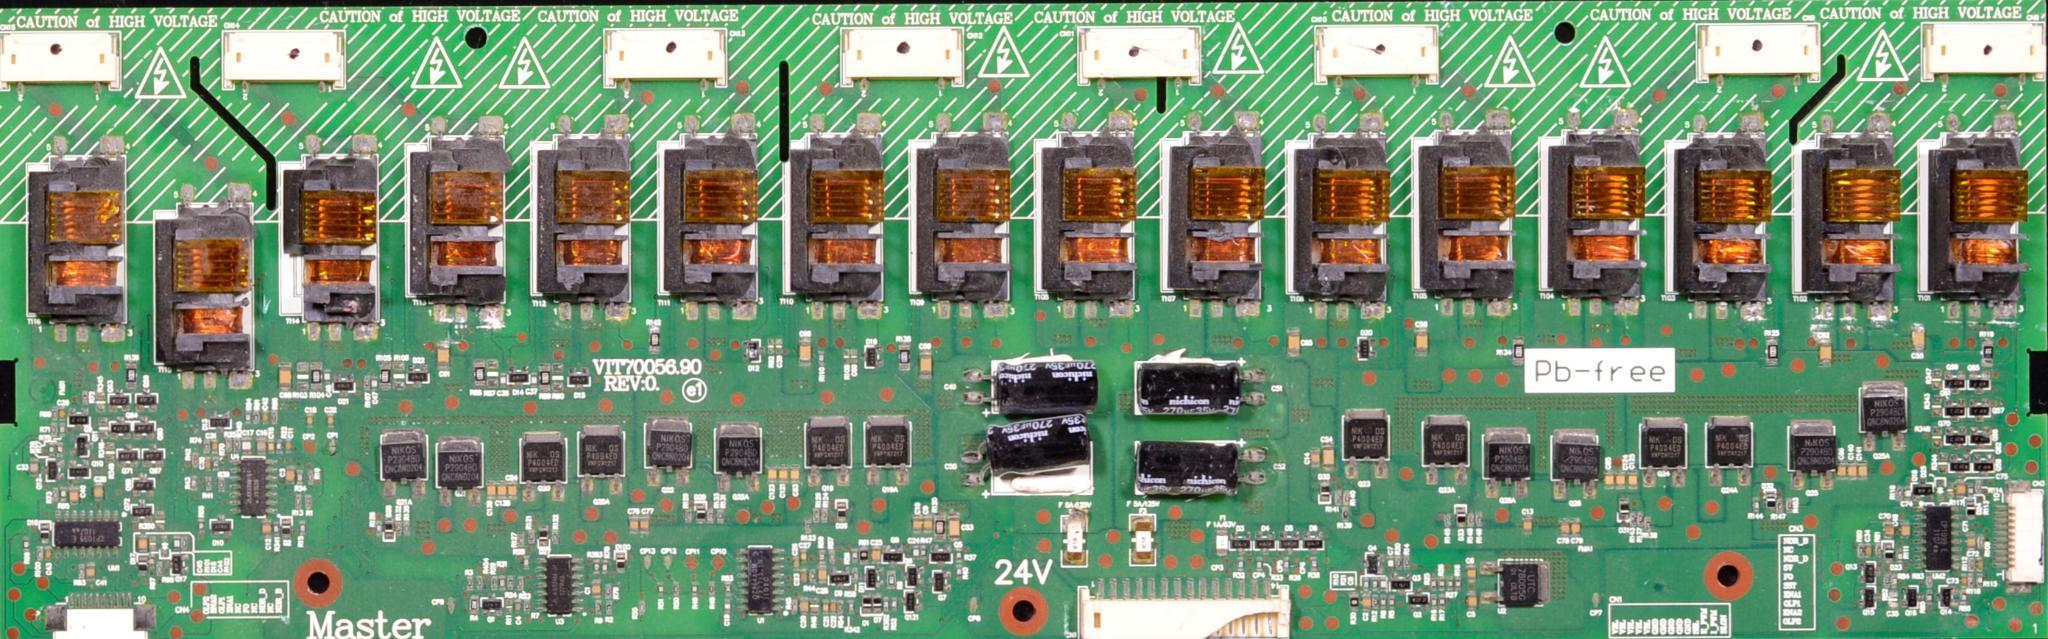Capacitor Jumper: (980, 422, 1095, 497), (1134, 444, 1260, 502), (984, 359, 1102, 419), (1138, 363, 1268, 416), (1911, 324, 1925, 357), (435, 346, 452, 372), (922, 353, 936, 383), (1819, 344, 1835, 369), (1416, 329, 1430, 355), (1288, 329, 1302, 354), (799, 338, 814, 363), (948, 519, 965, 540), (589, 579, 605, 600), (280, 365, 293, 389), (1570, 517, 1584, 538), (1324, 446, 1336, 469), (1309, 450, 1322, 470), (1887, 591, 1900, 610), (1558, 517, 1570, 538), (1953, 482, 1970, 497), (1882, 521, 1896, 538), (1614, 469, 1627, 487), (1627, 472, 1640, 490), (485, 483, 498, 500), (910, 517, 923, 534), (1964, 531, 1977, 548), (1522, 516, 1533, 534), (1361, 592, 1373, 610), (1465, 567, 1480, 582), (86, 562, 97, 582), (1465, 593, 1479, 609), (790, 467, 802, 483), (498, 483, 509, 500), (923, 517, 935, 534), (1848, 460, 1859, 478), (263, 517, 273, 536), (765, 467, 778, 481), (29, 459, 40, 474), (286, 467, 296, 483), (778, 468, 789, 485), (630, 516, 640, 533), (137, 534, 148, 551), (913, 548, 923, 565), (724, 598, 735, 613), (1838, 459, 1847, 476), (71, 487, 80, 504), (1607, 470, 1614, 490), (1381, 576, 1391, 591), (327, 413, 336, 429), (1900, 521, 1910, 537), (1395, 551, 1403, 570), (819, 566, 828, 582), (801, 598, 810, 614), (95, 483, 103, 500), (872, 546, 880, 563), (172, 537, 182, 551), (323, 369, 330, 384), (500, 372, 508, 388), (532, 375, 539, 391), (306, 414, 316, 426), (1859, 463, 1866, 478), (509, 481, 517, 497), (261, 412, 270, 425), (205, 457, 214, 470), (1959, 574, 1968, 587), (852, 350, 859, 365), (212, 439, 219, 453), (46, 546, 54, 561), (822, 601, 829, 615), (776, 340, 782, 355), (60, 408, 67, 423), (801, 550, 808, 563), (1404, 555, 1411, 571), (831, 602, 839, 615), (269, 440, 276, 455), (516, 602, 522, 615), (286, 442, 294, 452), (1866, 544, 1872, 559), (372, 378, 379, 389), (641, 517, 648, 529), (1977, 561, 1984, 572), (794, 557, 801, 566), (802, 572, 806, 583)
IC: (741, 544, 784, 619), (1915, 504, 1962, 572), (55, 512, 121, 559), (538, 555, 584, 618), (1498, 557, 1550, 608), (232, 457, 276, 517)
Resistor Jumper: (1765, 338, 1783, 370), (1980, 340, 1996, 370), (487, 362, 502, 389), (538, 365, 552, 392), (552, 365, 566, 395), (381, 362, 394, 391), (312, 365, 325, 392), (394, 362, 406, 391), (298, 365, 310, 393), (650, 328, 664, 353), (1752, 497, 1765, 521), (1930, 395, 1944, 418), (475, 361, 487, 385), (127, 365, 138, 389), (936, 517, 948, 542), (899, 344, 910, 365), (1932, 429, 1944, 450), (1335, 487, 1347, 508), (1348, 591, 1361, 609), (1938, 455, 1949, 477), (1629, 511, 1640, 531), (1309, 553, 1320, 572), (1236, 555, 1250, 571), (106, 442, 116, 463), (1895, 544, 1906, 565), (1358, 576, 1371, 592), (97, 391, 106, 413), (1254, 555, 1266, 572), (1976, 532, 1987, 550), (1438, 595, 1447, 615), (404, 519, 413, 538), (1933, 371, 1944, 388), (101, 419, 111, 436), (1855, 544, 1865, 561), (1429, 595, 1439, 612), (1387, 551, 1396, 570), (472, 597, 481, 615), (842, 349, 853, 365), (1637, 510, 1644, 531), (1927, 591, 1934, 612), (596, 601, 606, 617), (1643, 516, 1652, 533), (24, 537, 33, 554), (861, 548, 870, 565), (808, 570, 818, 587), (888, 570, 897, 587), (725, 582, 734, 598), (692, 582, 701, 598), (505, 598, 515, 615), (306, 493, 313, 512), (199, 517, 206, 537), (1373, 592, 1381, 612), (232, 438, 242, 453), (189, 477, 199, 493), (1968, 480, 1977, 495), (294, 494, 302, 512), (1341, 510, 1351, 525), (829, 549, 837, 567), (1310, 557, 1319, 572), (1960, 588, 1968, 606), (1388, 596, 1398, 612), (640, 602, 649, 618), (1370, 578, 1381, 591), (1455, 574, 1462, 595), (767, 340, 775, 357), (226, 436, 234, 453), (1343, 490, 1351, 507), (1467, 512, 1475, 529), (852, 548, 859, 565), (507, 575, 515, 592), (1432, 578, 1439, 595), (205, 477, 214, 491), (218, 480, 227, 494), (819, 550, 828, 565), (955, 567, 964, 582), (1476, 511, 1482, 531), (396, 519, 402, 538), (276, 438, 283, 453), (60, 487, 68, 503), (812, 508, 820, 524), (519, 532, 526, 548), (1873, 542, 1881, 558), (1283, 557, 1290, 572), (78, 563, 86, 579), (852, 567, 859, 583), (675, 582, 683, 597), (818, 353, 827, 366), (1776, 497, 1783, 515), (718, 508, 728, 521), (529, 531, 538, 544), (502, 574, 508, 592), (603, 585, 613, 598), (812, 602, 822, 615), (1441, 572, 1446, 595), (50, 443, 57, 457), (1974, 480, 1981, 494), (1896, 487, 1904, 502), (1893, 572, 1900, 587), (1968, 575, 1976, 589), (477, 576, 485, 591), (516, 576, 524, 591), (708, 580, 716, 595), (54, 487, 60, 504), (658, 582, 665, 598), (525, 598, 532, 615), (308, 469, 313, 490), (1447, 574, 1452, 595), (1381, 593, 1386, 614), (82, 392, 90, 405), (252, 413, 260, 426), (50, 423, 57, 436), (204, 440, 212, 453), (57, 443, 64, 459), (299, 470, 306, 486), (822, 508, 829, 521), (805, 521, 812, 534), (274, 521, 281, 537), (377, 521, 384, 537), (182, 536, 188, 551), (37, 548, 44, 561), (592, 561, 600, 574), (1977, 575, 1985, 588), (892, 598, 899, 614), (606, 602, 614, 615), (1446, 512, 1451, 531), (884, 597, 889, 615), (246, 413, 252, 427), (60, 423, 67, 438), (300, 521, 307, 536), (468, 576, 474, 591), (850, 598, 856, 615), (54, 408, 60, 421), (552, 531, 559, 544), (1968, 559, 1975, 572), (157, 563, 163, 576), (492, 578, 499, 591), (195, 453, 200, 469), (1787, 498, 1792, 514), (922, 545, 927, 561), (364, 378, 371, 389), (687, 510, 694, 521), (707, 510, 713, 521), (602, 561, 609, 572), (957, 550, 963, 565), (839, 602, 846, 612)
Transistor: (1422, 416, 1472, 470), (1482, 429, 1532, 483), (714, 423, 765, 476), (1860, 382, 1910, 434), (1704, 417, 1753, 470), (1552, 429, 1601, 480), (1788, 421, 1836, 473), (436, 436, 485, 489), (579, 425, 626, 478), (1343, 412, 1391, 463), (1640, 419, 1689, 470), (865, 417, 912, 469), (806, 418, 853, 470), (521, 433, 568, 485), (647, 418, 694, 469), (381, 430, 428, 481), (1388, 575, 1417, 593), (903, 589, 922, 615), (926, 548, 956, 565), (934, 568, 951, 598), (1944, 400, 1968, 419), (1941, 585, 1958, 613), (832, 570, 856, 589), (903, 565, 921, 589), (1966, 404, 1994, 419), (131, 503, 159, 519), (1967, 372, 1993, 389), (1911, 482, 1937, 499), (1859, 584, 1877, 608), (1906, 585, 1923, 610), (1951, 460, 1974, 478), (1971, 429, 1994, 446), (1972, 459, 1996, 476), (1365, 553, 1382, 576), (1861, 561, 1877, 585), (865, 566, 880, 591), (1942, 433, 1968, 447), (882, 548, 908, 562), (1408, 591, 1432, 606), (77, 433, 91, 457), (142, 450, 165, 465), (133, 477, 155, 493), (1946, 374, 1966, 391), (136, 421, 157, 436), (136, 392, 158, 406), (114, 422, 135, 436), (482, 598, 504, 612), (71, 416, 94, 427), (119, 450, 140, 463), (172, 557, 185, 578), (69, 468, 91, 480), (112, 397, 132, 409), (48, 461, 59, 480)
